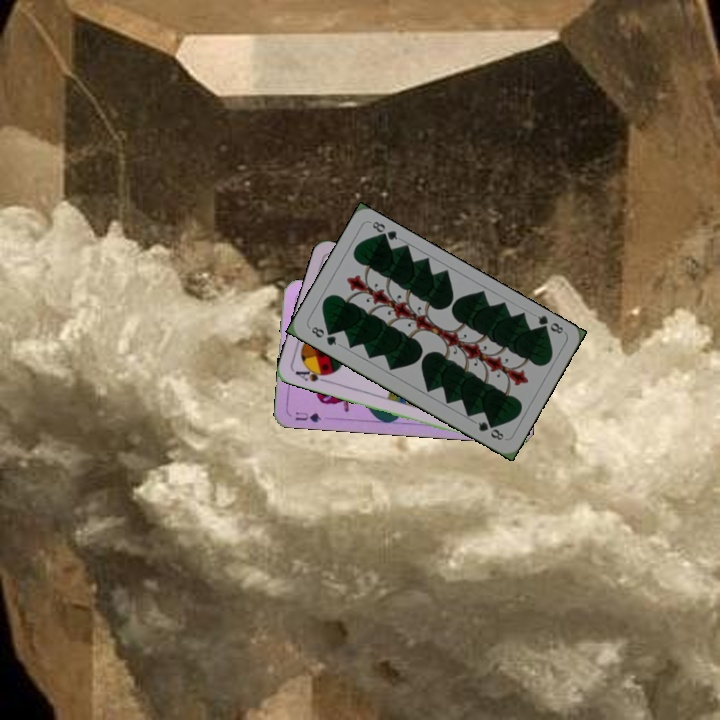G8: (533, 311, 566, 337), (307, 322, 339, 348)
GU: (291, 408, 324, 425)
SA: (291, 363, 332, 386)
